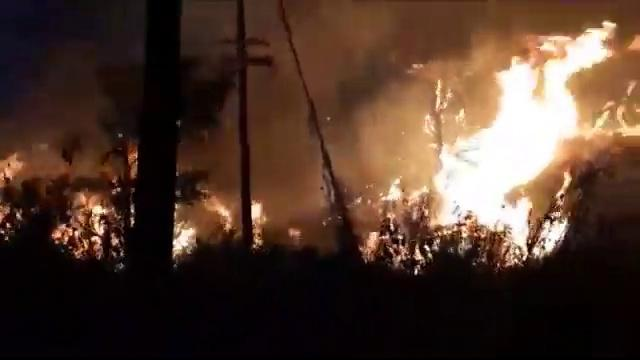fire: (439, 146, 513, 226), (498, 71, 565, 155)
